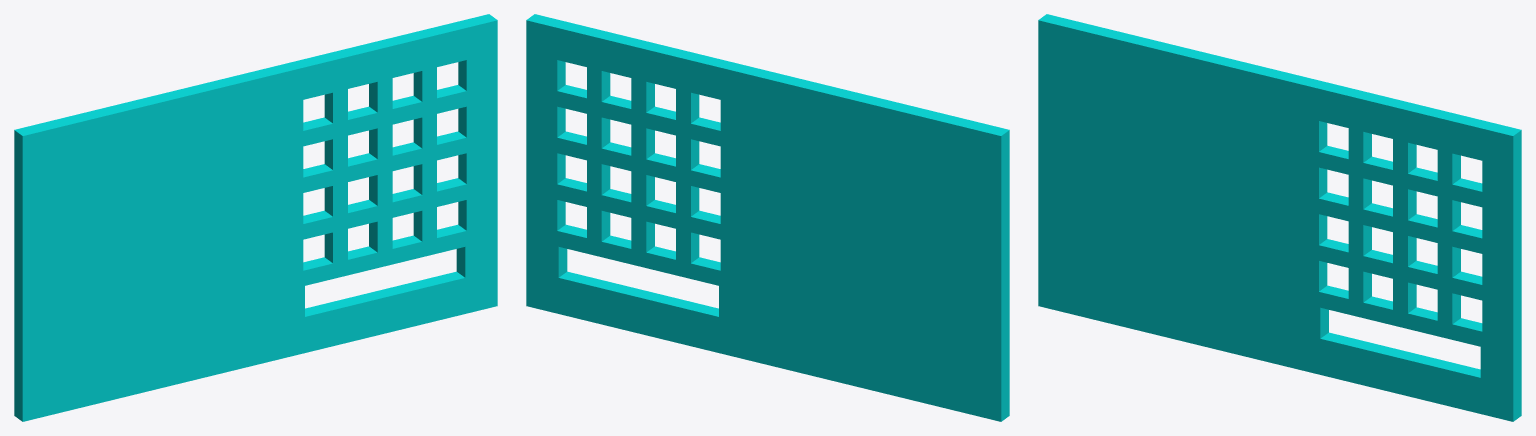
Rendered from molde.gltf.
The picture shows the model from 3 angles, left to right: view 1: azimuth 30°, elevation 25°; view 2: azimuth 150°, elevation 25°; view 3: azimuth 330°, elevation 25°; orthographic projection.
Parts seen in each view (by area): view 1: calculadora; view 2: calculadora; view 3: calculadora.
Boxes of the visible parts, left/top/right/bottom form: calculadora: left=14, top=14, right=497, bottom=421; calculadora: left=526, top=14, right=1009, bottom=421; calculadora: left=1038, top=14, right=1521, bottom=421.
Size of the model in its own units: 8 by 4.6 by 0.25.
